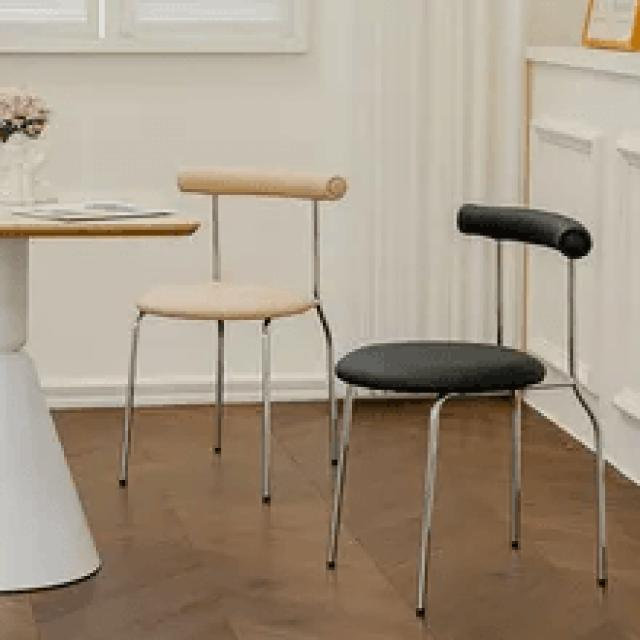chair: (324, 200, 614, 616), (117, 162, 350, 508), (336, 202, 598, 394), (132, 166, 346, 318)
